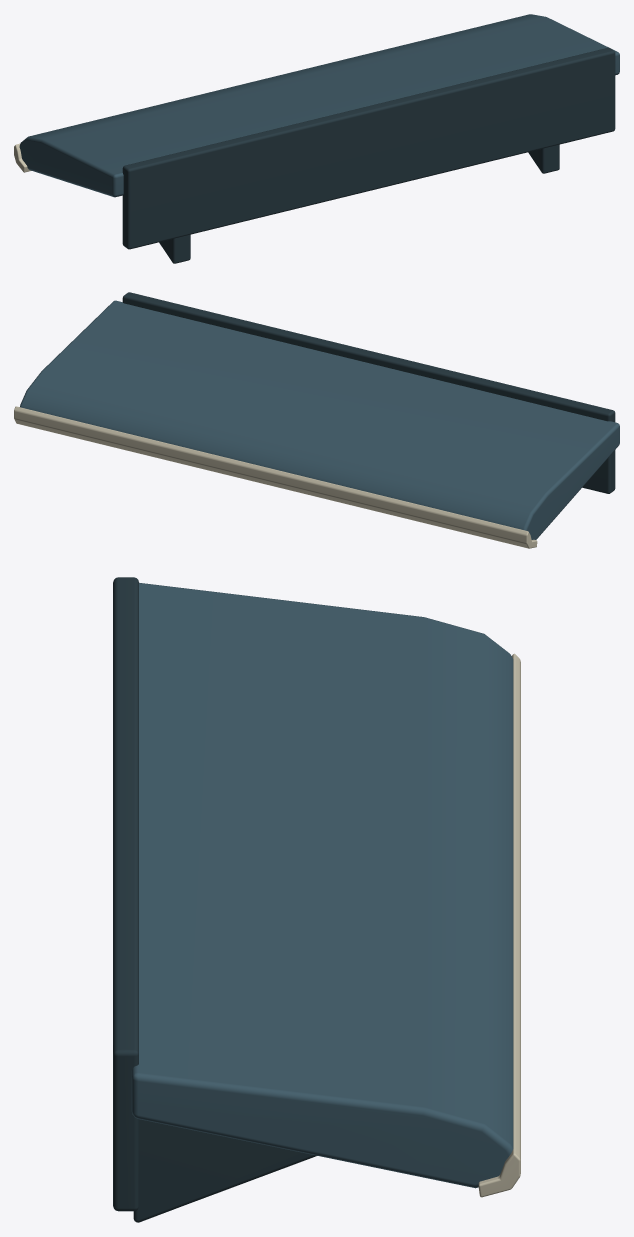
The model's file is city_shop_fittings_01.glb.
The picture shows the model from 3 angles, top to bottom: view 1: azimuth 30°, elevation 25°; view 2: azimuth 150°, elevation 25°; view 3: azimuth 270°, elevation 25°; orthographic projection. The views are drawn at different scales.
Visible parts, largest first — view 1: wall_mount_rail, formed_canopy, paired_tapered_gussets; view 2: formed_canopy, rolled_front_rim, wall_mount_rail; view 3: formed_canopy, wall_mount_rail, paired_tapered_gussets, rolled_front_rim.
Boxes of the visible parts, bbox=[...] form: wall_mount_rail: bbox=[122, 47, 615, 249]; formed_canopy: bbox=[19, 14, 619, 197]; paired_tapered_gussets: bbox=[159, 144, 559, 263]; formed_canopy: bbox=[20, 300, 619, 539]; rolled_front_rim: bbox=[14, 406, 537, 548]; wall_mount_rail: bbox=[122, 292, 615, 493]; formed_canopy: bbox=[131, 582, 513, 1188]; wall_mount_rail: bbox=[113, 577, 138, 1211]; paired_tapered_gussets: bbox=[133, 1119, 317, 1222]; rolled_front_rim: bbox=[478, 653, 520, 1197].
Size of the model in its own units: 3.2 by 0.66 by 1.1.
